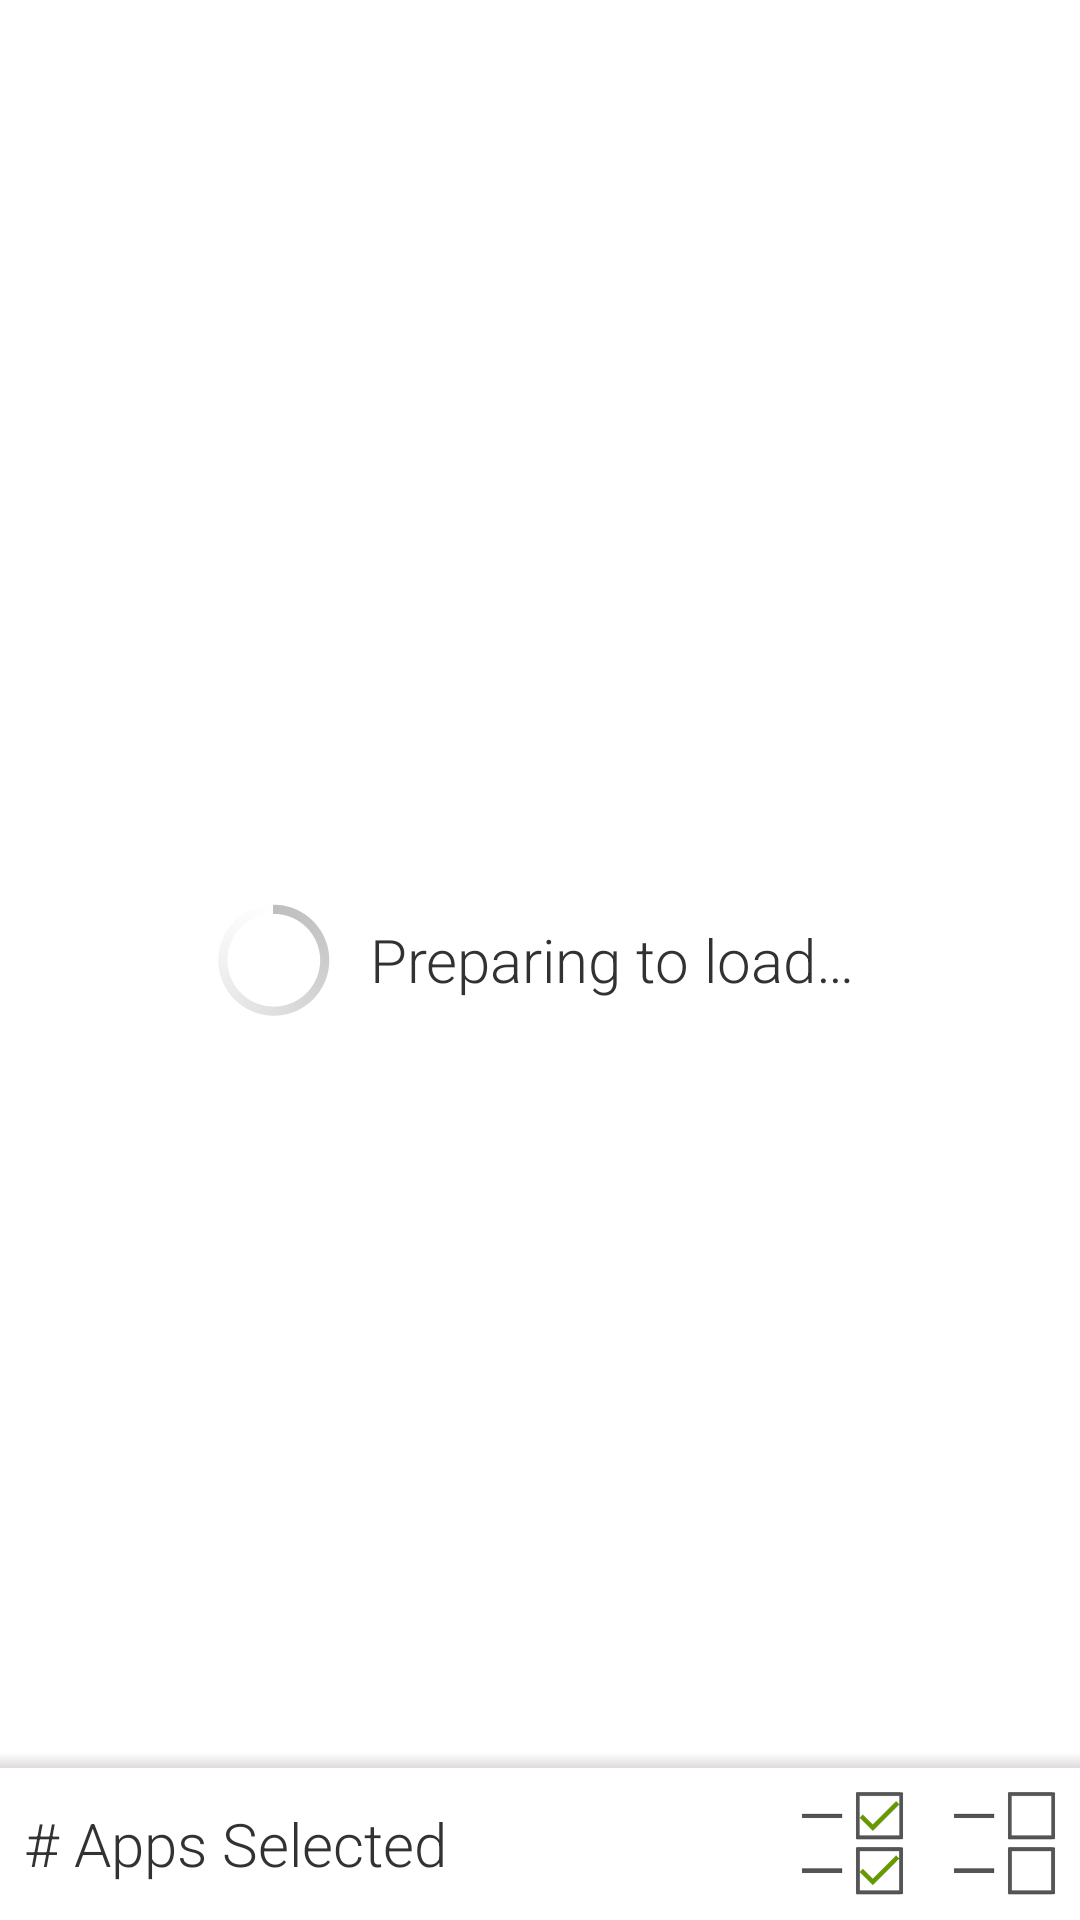

Icon bounding boxes for this 1080 × 1920 phone screenshot, format BBox(x1, y1, x2, y2):
Deselect All: BBox(954, 1792, 1055, 1895)
Select All: BBox(802, 1792, 903, 1895)
